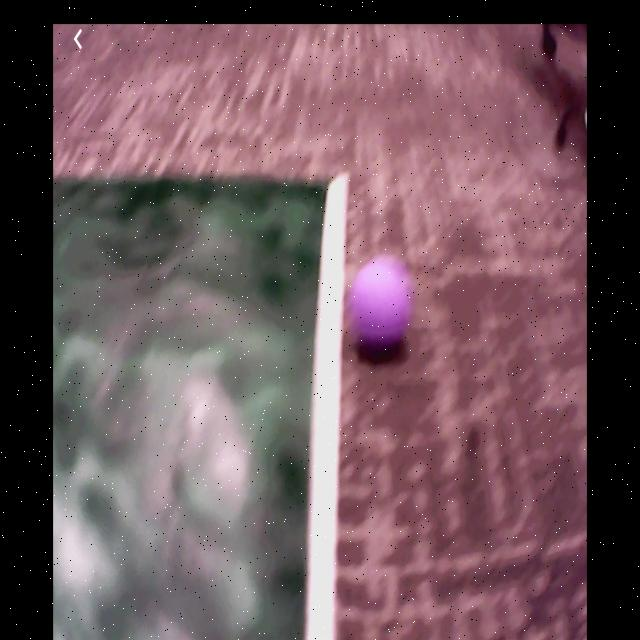ball: (353, 261, 412, 350)
